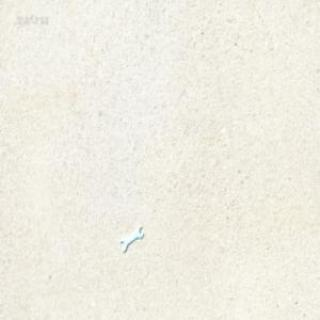Wrenchtrack_idkeyframe: (120, 225, 142, 253)
